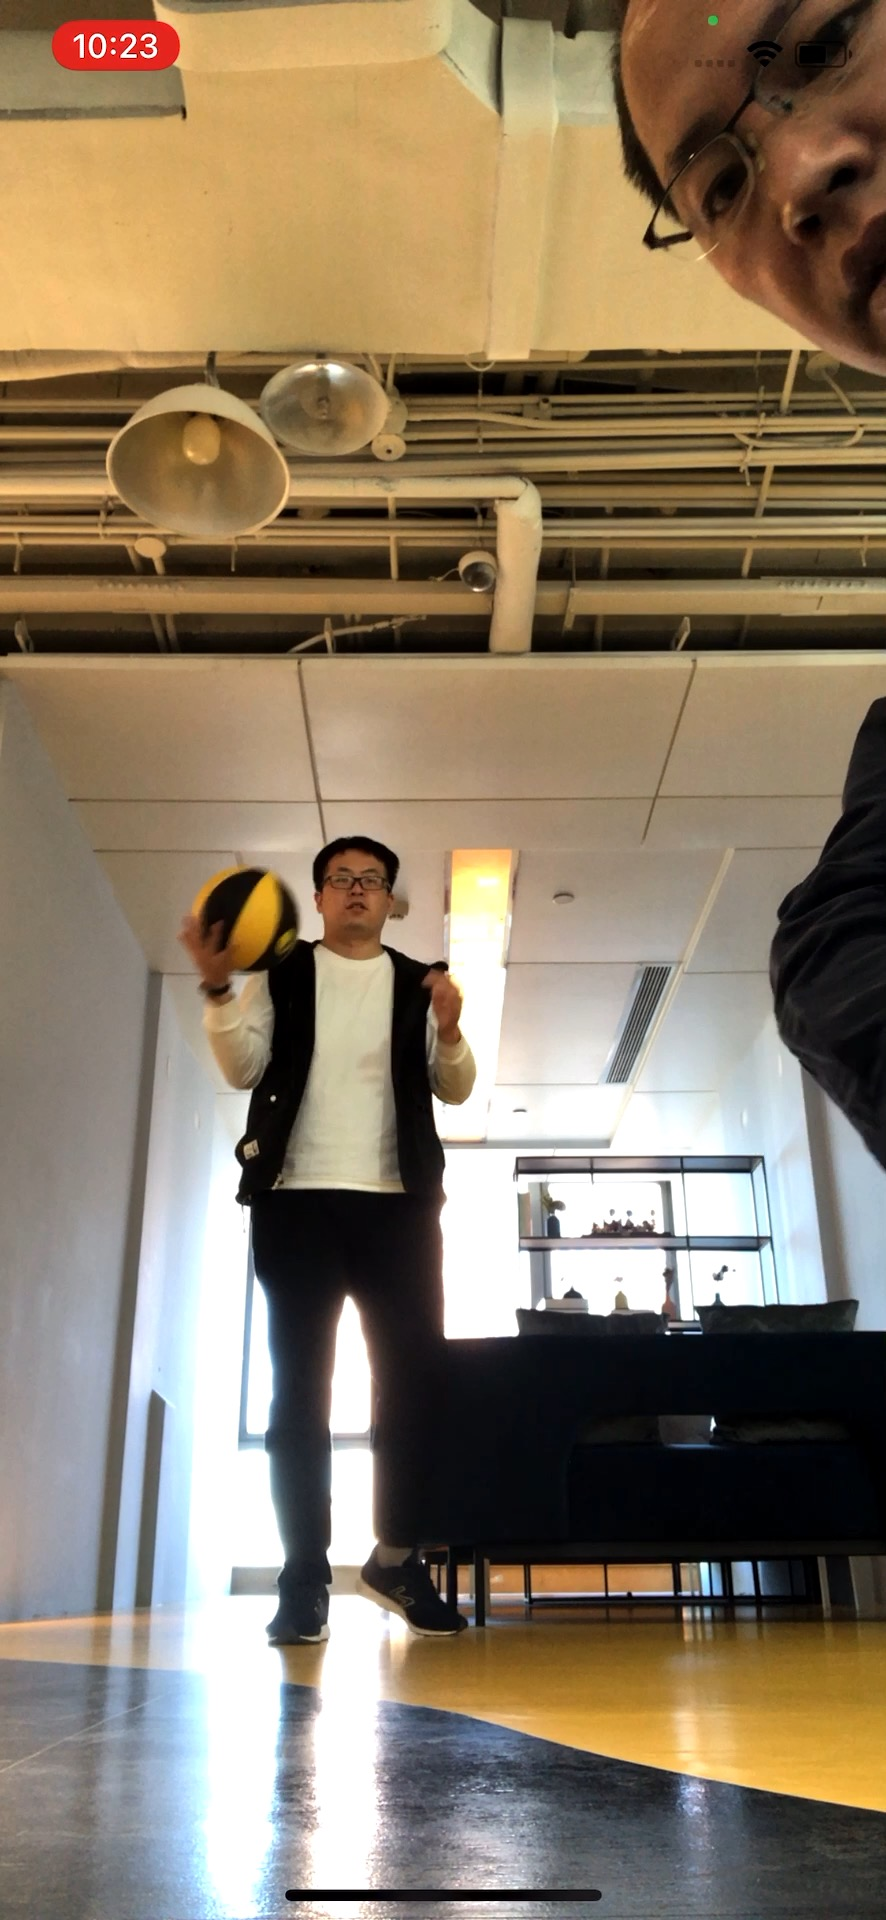ball: (186, 868, 300, 972)
